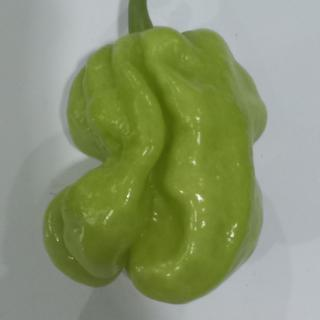Grade-A: (37, 24, 272, 305)
